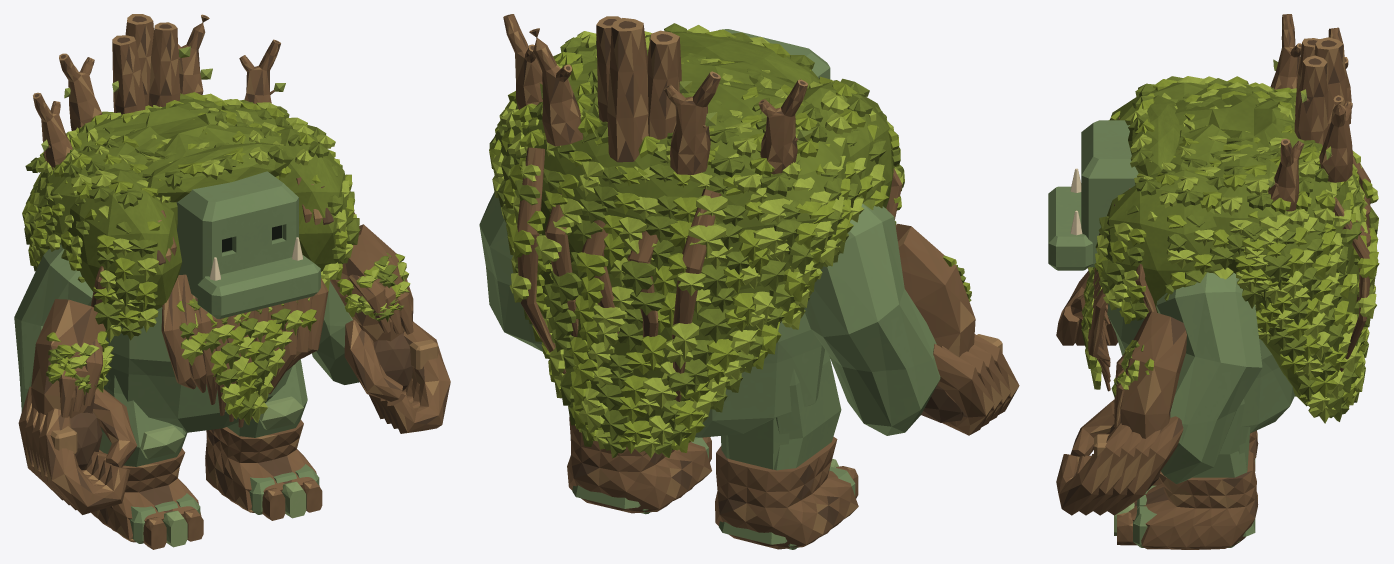
The model's file is host_21.glb.
3 views of the same model, side by side, from view 1: azimuth 30°, elevation 25°; view 2: azimuth 150°, elevation 25°; view 3: azimuth 270°, elevation 25° (orthographic). The views are drawn at different scales.
Parts seen in each view (by area): view 1: Body — continuous source torso, four joints and planted legs, Head — complete continuous skull and neck, Visual1076 — Mantle continuous tapered foliage foundation, Visual1076 — Mantle RIGHT irregular shoulder and side cowl, Visual1076 — Feet LEFT continuous irregular bark heel and an, Visual1076 — Mantle LEFT irregular shoulder and side cowl, Visual1076 — RIGHT forearm knotted broad bark sleeve, Visual1076 — RIGHT chunky curled articulated root finger 0, Visual1076 — Feet RIGHT continuous irregular bark heel and a, Visual1076 — LEFT chunky curled articulated root finger 0, Visual1079 — Mantle recessed arched brow seat, Visual1076 — LEFT forearm knotted broad bark sleeve (+32 smaller); view 2: Body — continuous source torso, four joints and planted legs, Visual1076 — Mantle continuous tapered foliage foundation, Visual1076 — Feet RIGHT continuous irregular bark heel and a, Visual1076 — Feet LEFT continuous irregular bark heel and an, Visual1076 — RIGHT forearm knotted broad bark sleeve, Visual1076 — Crown central tall blunt stub, Visual1076 — Crown negative-X rear fork, Visual1076 — Crown positive-X rear fork, Visual1076 — Crown central negative-X blunt stub, Visual1079 — Mantle recessed arched brow seat, Visual1076 — RIGHT chunky curled articulated root finger 3, Visual1076 — Mantle RIGHT irregular shoulder and side cowl (+19 smaller); view 3: Body — continuous source torso, four joints and planted legs, Visual1076 — Mantle continuous tapered foliage foundation, Visual1076 — Feet LEFT continuous irregular bark heel and an, Head — complete continuous skull and neck, Visual1076 — Mantle LEFT irregular shoulder and side cowl, Visual1076 — LEFT forearm knotted broad bark sleeve, Visual1076 — LEFT chunky curled articulated root finger 0, Visual1076 — Crown central positive-X blunt stub, Visual1079 — Mantle recessed arched brow seat, Visual1076 — LEFT chunky curled articulated root finger 3, Visual1076 — Crown positive-X rear fork, Visual1076 — Crown central tall blunt stub (+15 smaller).
Part boxes in pixels (x1,y1,x2,y2): Body — continuous source torso, four joints and planted legs: [14, 244, 359, 543]; Head — complete continuous skull and neck: [176, 171, 320, 318]; Visual1076 — Mantle continuous tapered foliage foundation: [33, 99, 291, 244]; Visual1076 — Mantle RIGHT irregular shoulder and side cowl: [61, 167, 181, 323]; Visual1076 — Feet LEFT continuous irregular bark heel and an: [205, 419, 319, 512]; Visual1076 — Mantle LEFT irregular shoulder and side cowl: [276, 125, 352, 271]; Visual1076 — RIGHT forearm knotted broad bark sleeve: [31, 299, 105, 418]; Visual1076 — RIGHT chunky curled articulated root finger 0: [39, 408, 130, 514]; Visual1076 — Feet RIGHT continuous irregular bark heel and a: [91, 448, 201, 542]; Visual1076 — LEFT chunky curled articulated root finger 0: [387, 321, 450, 433]; Visual1079 — Mantle recessed arched brow seat: [146, 142, 293, 202]; Visual1076 — LEFT forearm knotted broad bark sleeve: [330, 224, 413, 342]; Body — continuous source torso, four joints and planted legs: [479, 192, 940, 549]; Visual1076 — Mantle continuous tapered foliage foundation: [493, 49, 861, 421]; Visual1076 — Feet RIGHT continuous irregular bark heel and a: [715, 436, 858, 549]; Visual1076 — Feet LEFT continuous irregular bark heel and an: [567, 417, 711, 513]; Visual1076 — RIGHT forearm knotted broad bark sleeve: [895, 224, 975, 357]; Visual1076 — Crown central tall blunt stub: [607, 18, 648, 162]; Visual1076 — Crown negative-X rear fork: [664, 71, 720, 174]; Visual1076 — Crown positive-X rear fork: [529, 28, 582, 146]; Visual1076 — Crown central negative-X blunt stub: [647, 30, 681, 139]; Visual1079 — Mantle recessed arched brow seat: [645, 31, 819, 88]; Visual1076 — RIGHT chunky curled articulated root finger 3: [933, 343, 994, 435]; Visual1076 — Mantle RIGHT irregular shoulder and side cowl: [803, 80, 894, 208]; Body — continuous source torso, four joints and planted legs: [1107, 272, 1294, 547]; Visual1076 — Mantle continuous tapered foliage foundation: [1170, 83, 1359, 406]; Visual1076 — Feet LEFT continuous irregular bark heel and an: [1128, 451, 1258, 549]; Head — complete continuous skull and neck: [1048, 120, 1138, 270]; Visual1076 — Mantle LEFT irregular shoulder and side cowl: [1095, 170, 1227, 312]; Visual1076 — LEFT forearm knotted broad bark sleeve: [1120, 311, 1186, 438]; Visual1076 — LEFT chunky curled articulated root finger 0: [1056, 422, 1132, 515]; Visual1076 — Crown central positive-X blunt stub: [1294, 55, 1328, 145]; Visual1079 — Mantle recessed arched brow seat: [1128, 95, 1181, 176]; Visual1076 — LEFT chunky curled articulated root finger 3: [1107, 416, 1183, 515]; Visual1076 — Crown positive-X rear fork: [1319, 95, 1352, 182]; Visual1076 — Crown central tall blunt stub: [1314, 37, 1348, 130].
Size of the model in its own units: 3.95 by 4.12 by 2.69.
11 materials, 9 textured.
